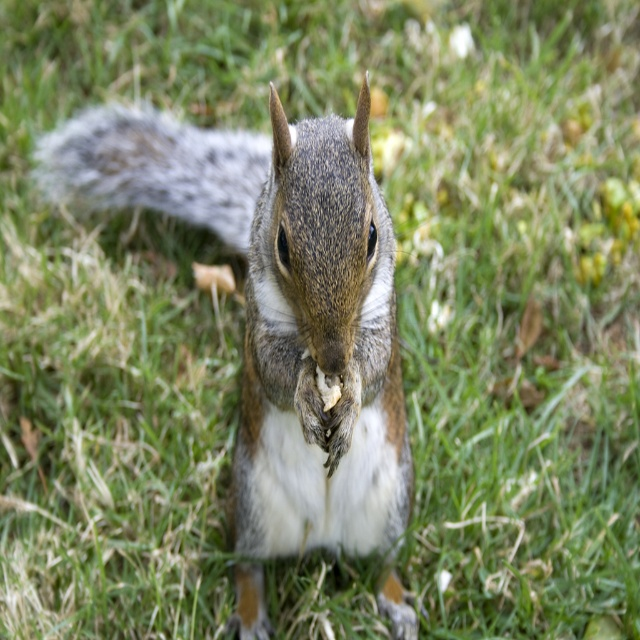Squirrel: (30, 70, 476, 640)
